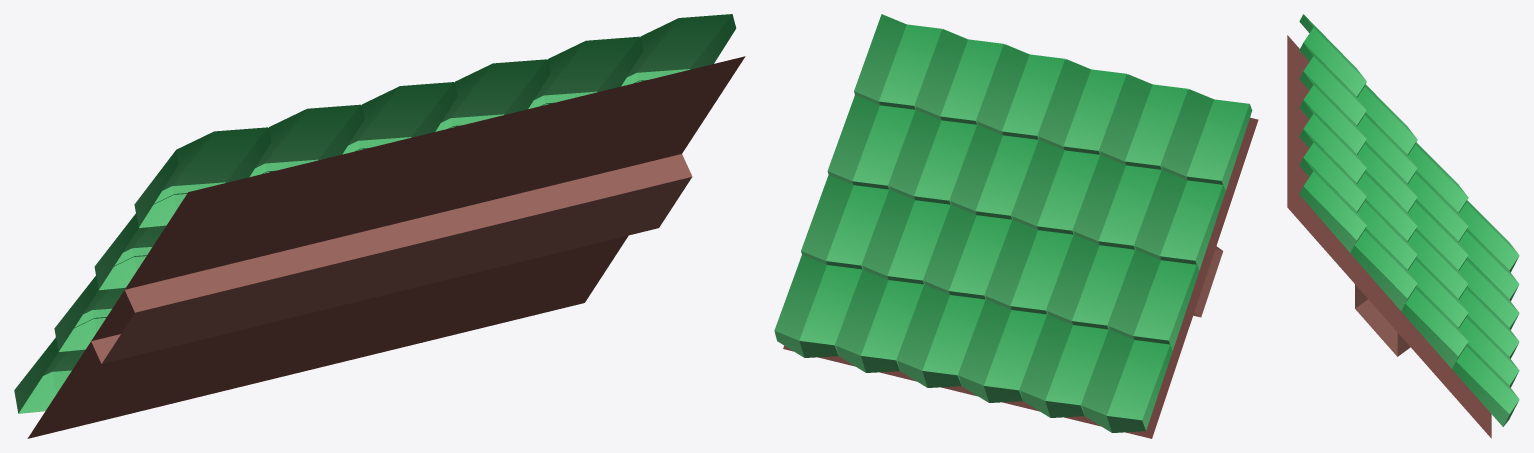
The model's file is RoofPlane_1.fbx.
3 views of the same model, side by side, from view 1: azimuth 30°, elevation 25°; view 2: azimuth 150°, elevation 25°; view 3: azimuth 270°, elevation 25° (orthographic). The views are drawn at different scales.
Parts seen in each view (by area): view 1: RoofPlane_1; view 2: RoofPlane_1; view 3: RoofPlane_1.
Boxes of the visible parts, x1=… form: RoofPlane_1: x1=14, y1=14, x2=745, y2=438; RoofPlane_1: x1=774, y1=14, x2=1258, y2=438; RoofPlane_1: x1=1287, y1=14, x2=1519, y2=438.
Bounding box in the file's own units: 2.4 × 1.36 × 1.64.
